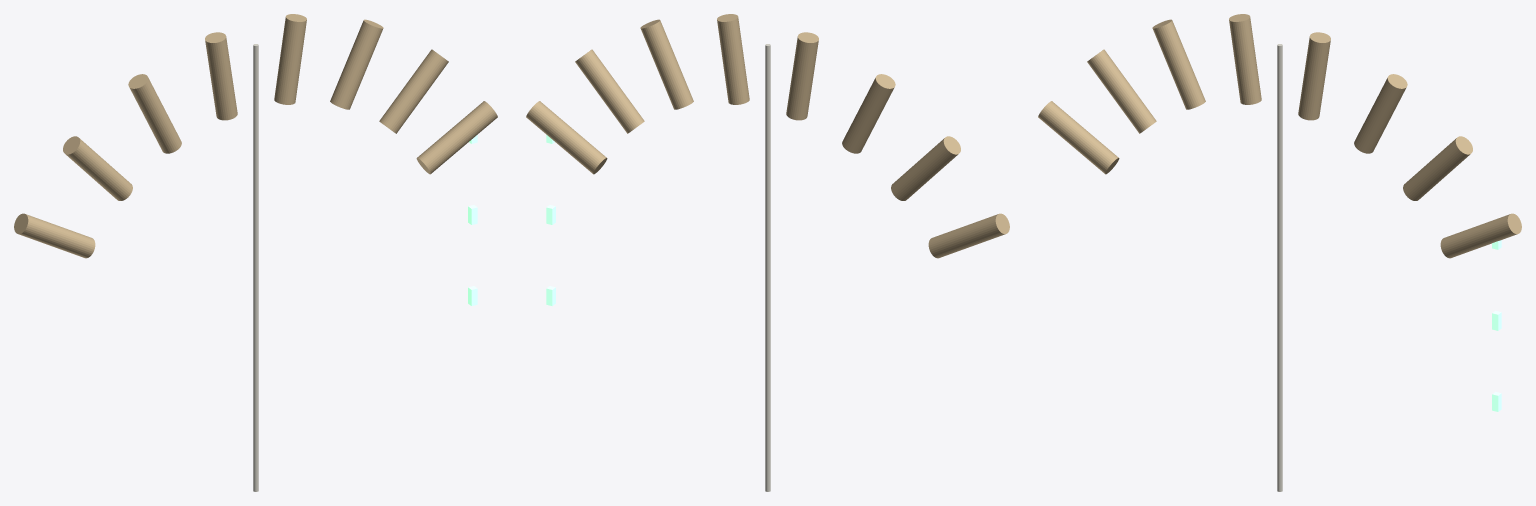
File: elven_bow.glb
3 renders of one model, left to right at view 1: azimuth 30°, elevation 25°; view 2: azimuth 150°, elevation 25°; view 3: azimuth 330°, elevation 25°, orthographic.
Visible parts, largest first — view 1: String, BowSeg5, BowSeg7, BowSeg4, BowSeg6, BowSeg3, BowSeg2, BowSeg0, BowSeg1; view 2: String, BowSeg5, BowSeg7, BowSeg4, BowSeg6, BowSeg3, BowSeg2, BowSeg0, BowSeg1; view 3: String, BowSeg2, BowSeg0, BowSeg3, BowSeg1, BowSeg4, BowSeg5, BowSeg7, BowSeg6.
Boxes of the visible parts, x1,y1,x2,y2 form: String: (253, 44, 258, 491); BowSeg5: (330, 19, 383, 109); BowSeg7: (416, 101, 497, 174); BowSeg4: (274, 14, 306, 104); BowSeg6: (379, 49, 448, 133); BowSeg3: (205, 32, 237, 120); BowSeg2: (128, 74, 181, 153); BowSeg0: (14, 213, 95, 258); BowSeg1: (63, 136, 132, 200); String: (765, 44, 770, 491); BowSeg5: (640, 19, 693, 109); BowSeg7: (526, 101, 607, 174); BowSeg4: (717, 14, 749, 104); BowSeg6: (575, 49, 644, 133); BowSeg3: (786, 32, 818, 120); BowSeg2: (842, 74, 895, 153); BowSeg0: (928, 213, 1009, 258); BowSeg1: (891, 136, 960, 200); String: (1277, 44, 1282, 491); BowSeg2: (1152, 19, 1205, 109); BowSeg0: (1038, 101, 1119, 174); BowSeg3: (1229, 14, 1261, 104); BowSeg1: (1087, 49, 1156, 133); BowSeg4: (1298, 32, 1330, 120); BowSeg5: (1354, 74, 1407, 153); BowSeg7: (1440, 213, 1521, 258); BowSeg6: (1403, 136, 1472, 200).
Bounding box in the file's own units: 0.6182 × 0.5729 × 0.024.
